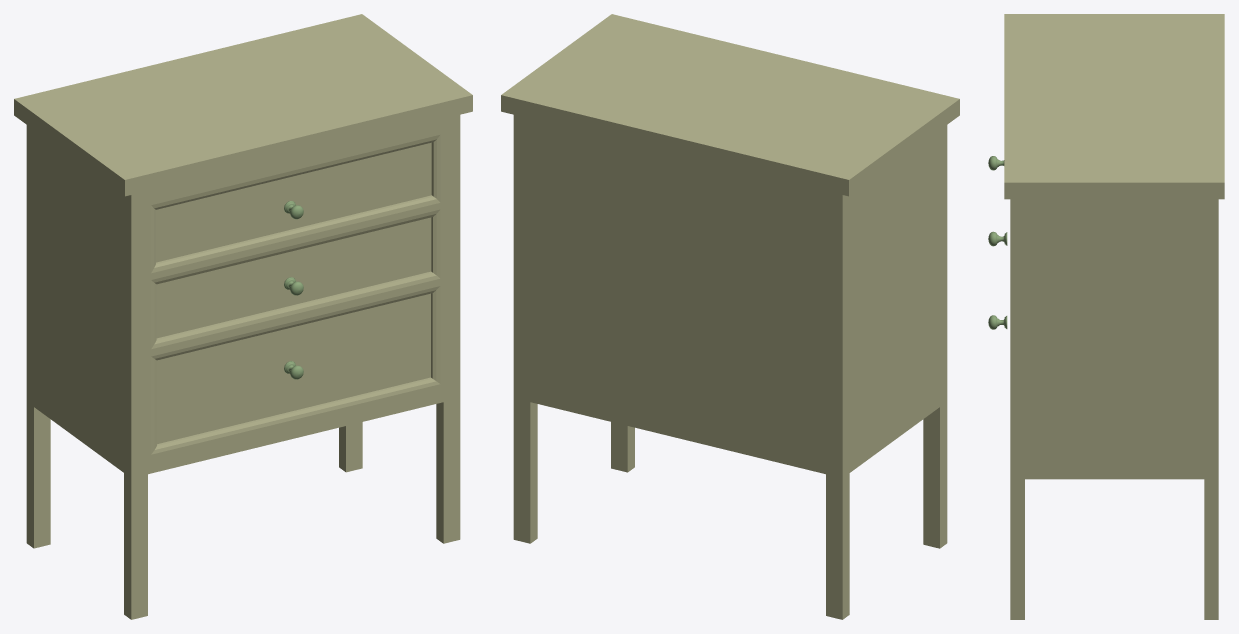
Rendered from chest_drawer.fbx.
The picture shows the model from 3 angles, left to right: view 1: azimuth 30°, elevation 25°; view 2: azimuth 150°, elevation 25°; view 3: azimuth 270°, elevation 25°; orthographic projection.
Visible parts, largest first — view 1: chest_drawer, chest_drawer_bottom_shelf, chest_drawer_mid_shelf, chest_drawer_top_shelf; view 2: chest_drawer; view 3: chest_drawer.
Part boxes in pixels (bbox=[...]): chest_drawer: bbox=[14, 14, 472, 619]; chest_drawer_bottom_shelf: bbox=[157, 293, 430, 444]; chest_drawer_mid_shelf: bbox=[156, 217, 431, 338]; chest_drawer_top_shelf: bbox=[156, 142, 431, 262]; chest_drawer: bbox=[501, 14, 959, 619]; chest_drawer: bbox=[1004, 14, 1224, 619].
Size of the model in its own units: 2.31 by 2.82 by 1.37.
